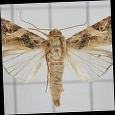Spodoptera litura: (2, 8, 113, 107)
